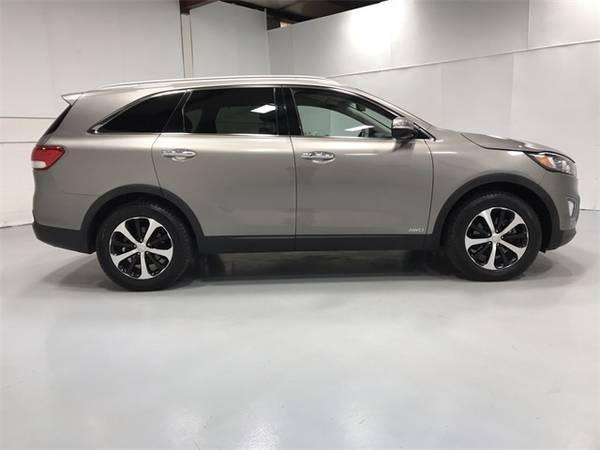Front_Bumper: (532, 170, 580, 249)
Front_Fender: (423, 123, 544, 249)
Front_Right_Door: (289, 135, 432, 249)
Front_Right_Window: (284, 85, 434, 137)
Hood: (459, 128, 572, 158)
Rear_Bumper: (33, 172, 105, 256)
Rear_Fender: (35, 89, 187, 198)
Rear_Right_Door: (151, 132, 297, 253)
Rear_Right_Window: (162, 85, 292, 135)
Right_Headlight: (527, 150, 579, 177)
Right_Taillight: (28, 147, 63, 171)
Roof: (53, 74, 434, 136)
Wheel: (96, 199, 191, 292), (449, 191, 541, 282)
